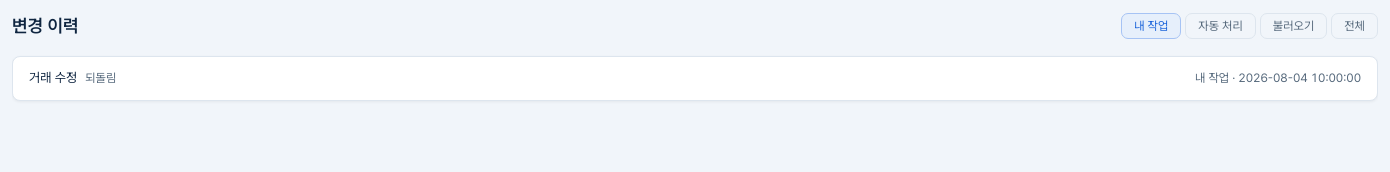
Test: D. 되돌리기 버튼 › D-3. 이미 되돌린 작업에는 버튼을 내지 않는다
Click the button "거래 수정". click: (53, 78)
box: [29,69,1361,88]
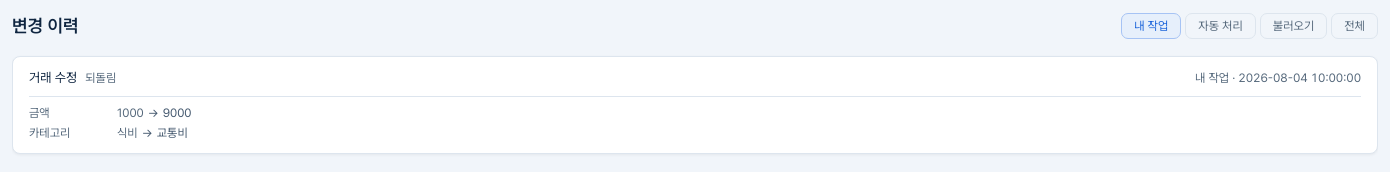
Now the text "금액" is shown, box [29,106,50,120]
